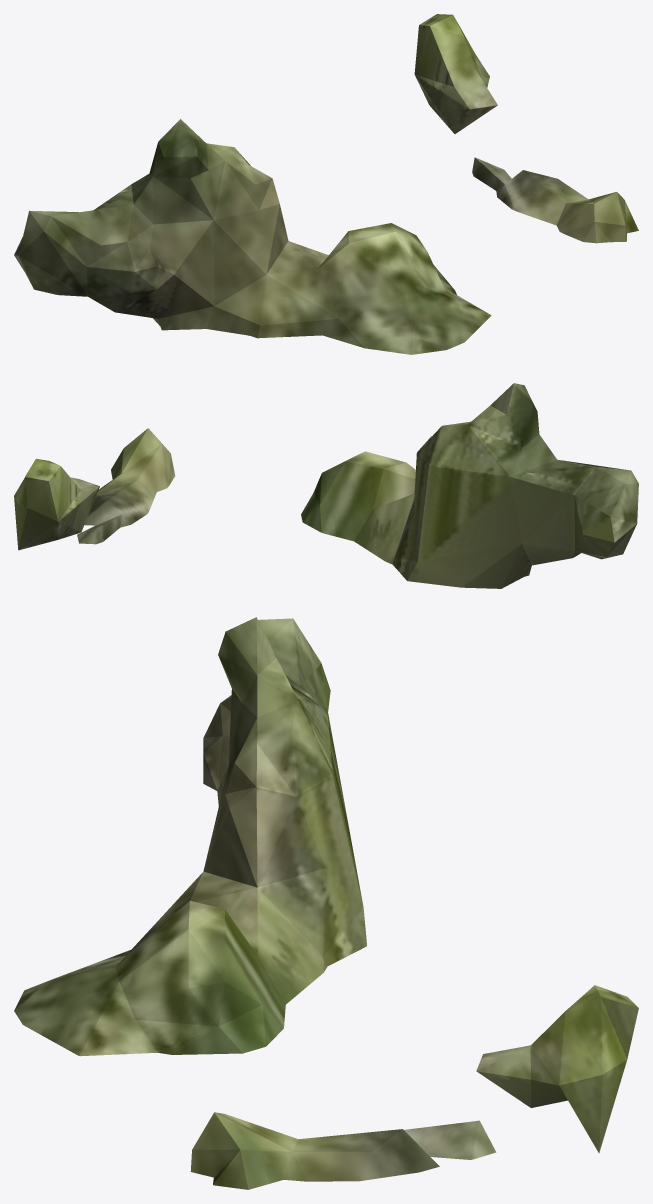
3 views of the same model, one above another, from view 1: azimuth 30°, elevation 25°; view 2: azimuth 150°, elevation 25°; view 3: azimuth 270°, elevation 25° (orthographic). The views are drawn at different scales.
Bounding box in the file's own units: 2.09 × 0.6951 × 1.41.
Materials: 1 (1 with a texture image).
